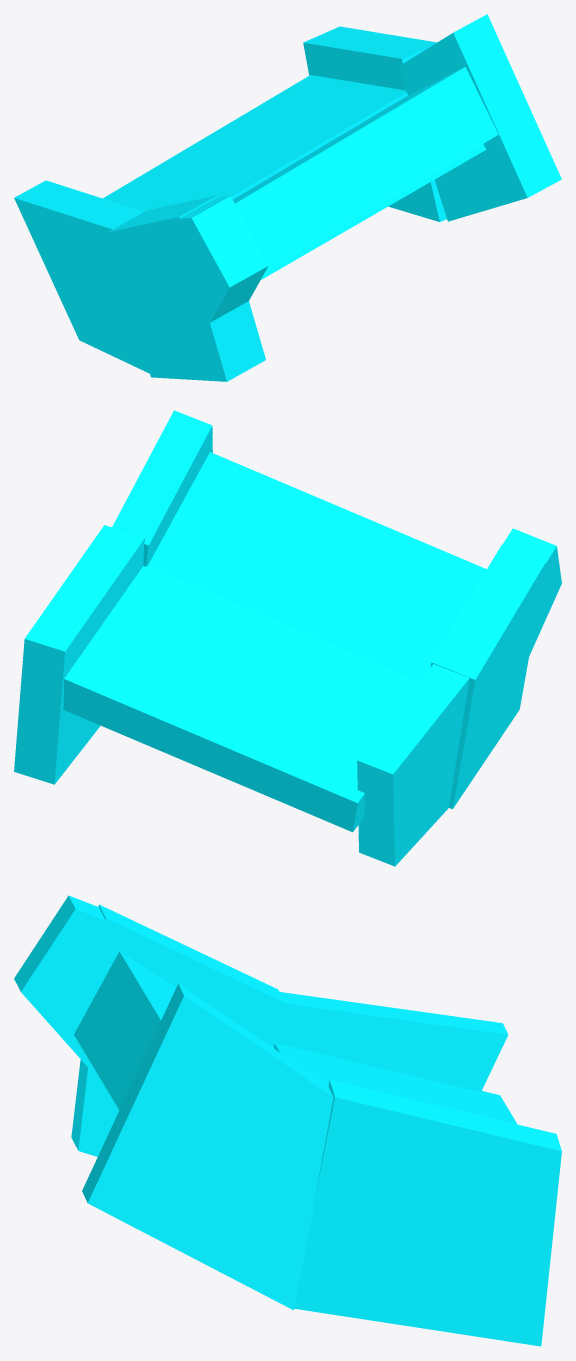
Rendered from SM_Bld_Bridge_Debris_01_Collision.fbx.
3 views of the same model, one above another, from view 1: azimuth 30°, elevation 25°; view 2: azimuth 150°, elevation 25°; view 3: azimuth 270°, elevation 25° (orthographic). The views are drawn at different scales.
Parts seen in each view (by area): view 1: SM_Bld_Bridge_Debris_01_Collision; view 2: SM_Bld_Bridge_Debris_01_Collision; view 3: SM_Bld_Bridge_Debris_01_Collision.
Part boxes in pixels (x1,y1,x2,y2): SM_Bld_Bridge_Debris_01_Collision: [14, 14, 561, 381]; SM_Bld_Bridge_Debris_01_Collision: [14, 410, 561, 866]; SM_Bld_Bridge_Debris_01_Collision: [14, 895, 561, 1346].
Bounding box in the file's own units: 2248 × 1765 × 2188.
